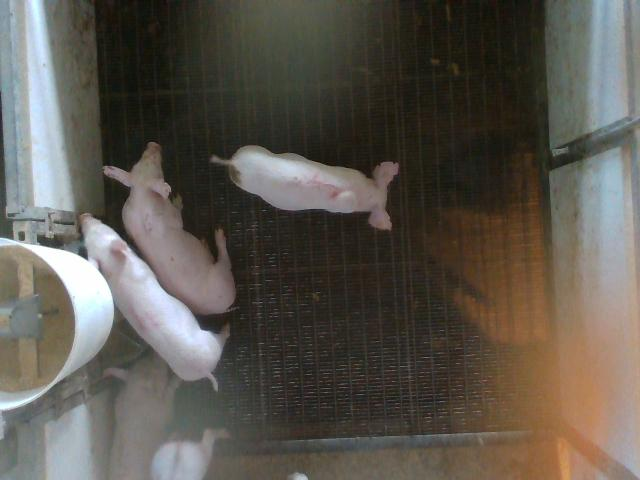pig-4: (80, 214, 229, 381)
pig-5: (210, 145, 398, 229)
